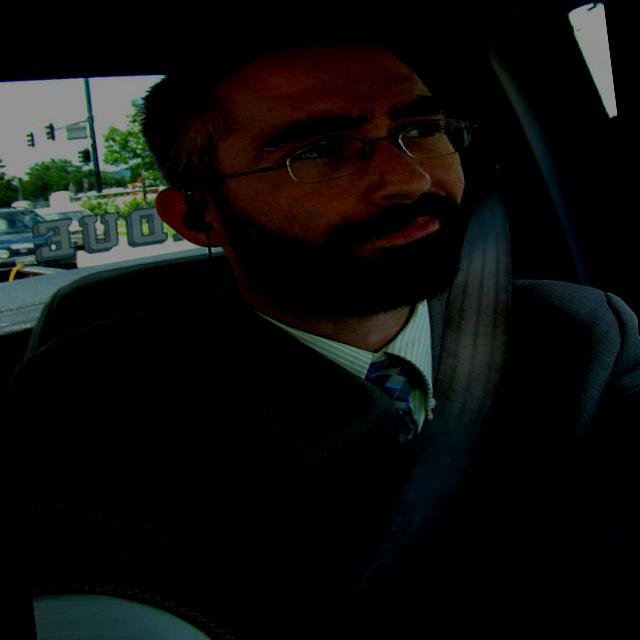Vehicle: (32, 196, 116, 253), (0, 199, 58, 269)
